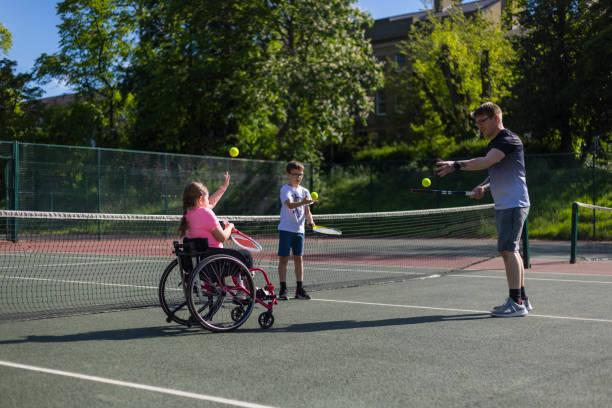ball_tennis: (421, 177, 432, 187), (230, 147, 238, 157), (311, 192, 318, 201)
